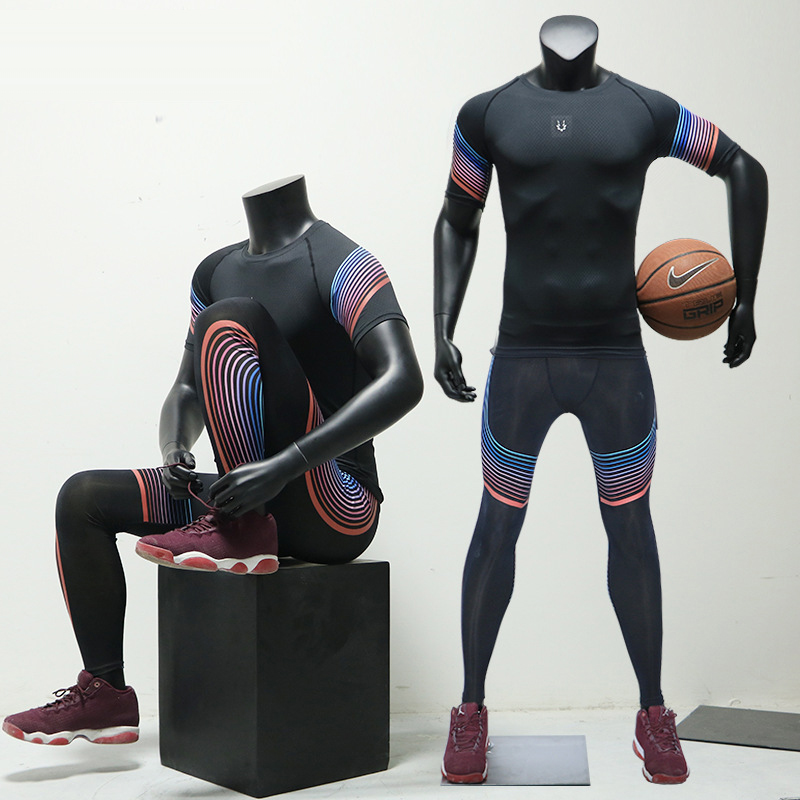person-like: (422, 7, 776, 795), (1, 163, 429, 759)
